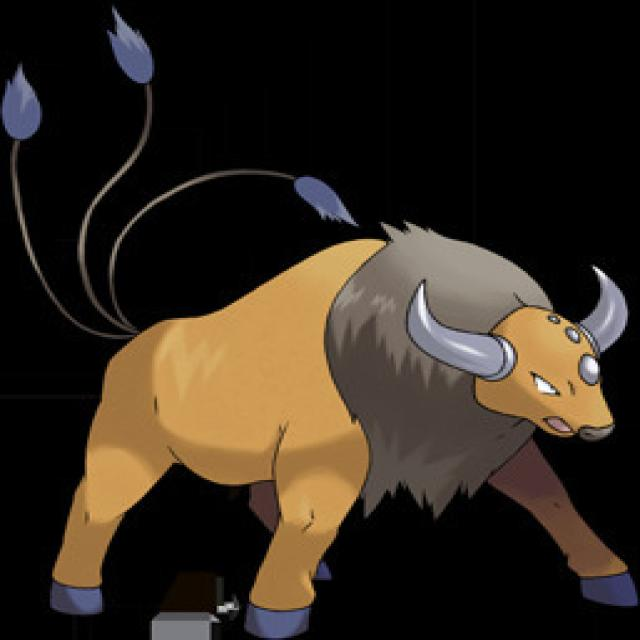Tauros: (56, 230, 640, 623)
